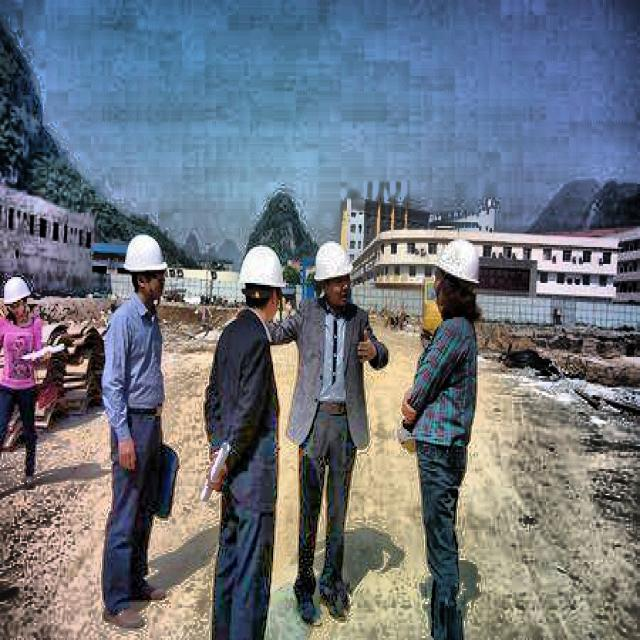helmet: (428, 232, 488, 323), (238, 245, 288, 325), (122, 232, 170, 306), (312, 240, 354, 312), (3, 272, 34, 326)
